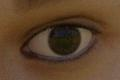eye: (48, 25, 81, 55)
